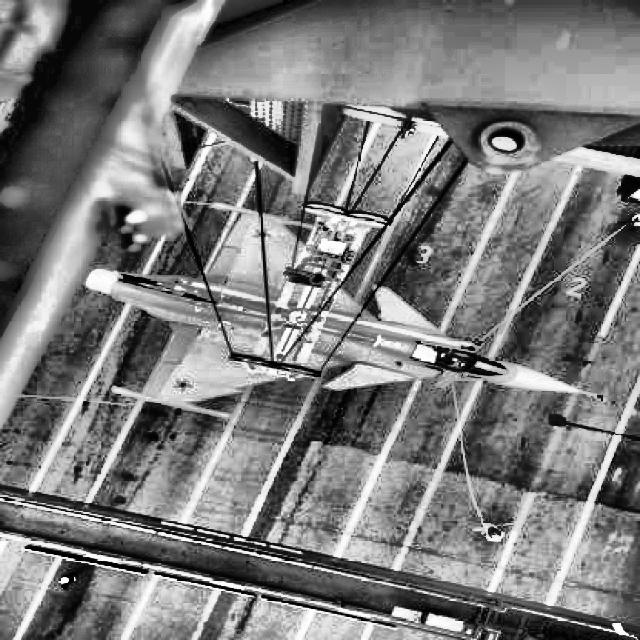JAS39: (85, 203, 604, 419)
